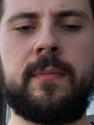without_mask: (1, 2, 94, 125)
